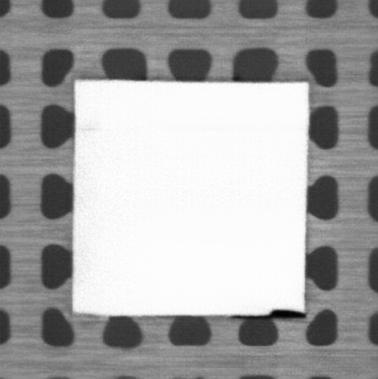DIE_BROKEN: (263, 308, 307, 319)
